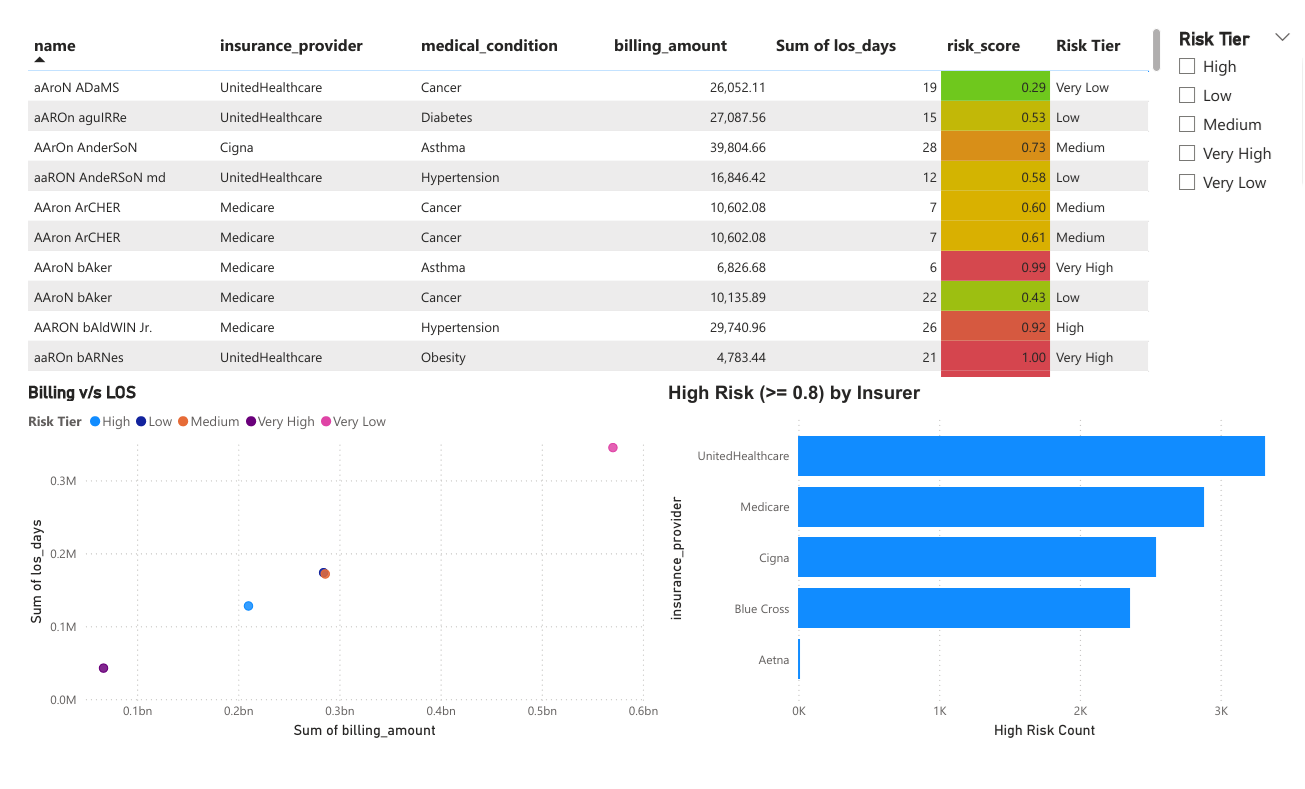

The dashboard page shown, as its layout file describes it:
{"tool":"powerbi","page":{"name":"Risk & Anomalies","canvas":[1280,720],"ordinal":1},"visuals":[{"type":"tableEx","fields":{"Values":["predictions.name","predictions.insurance_provider","predictions.medical_condition","predictions.billing_amount","Sum(predictions.los_days)","predictions.risk_score","predictions.Risk Tier"]},"box":[0,0,1142.7,359.1],"z":0},{"type":"clusteredBarChart","title":"High Risk (>= 0.8) by Insurer","fields":{"Category":["predictions.insurance_provider"],"Y":["predictions.High Risk Count"]},"box":[640,359.1,640,361.2],"z":1000},{"type":"scatterChart","title":"Billing v/s LOS","fields":{"X":["Sum(predictions.billing_amount)"],"Y":["Sum(predictions.los_days)"],"Series":["predictions.Risk Tier"]},"box":[0,359.1,640,361.2],"z":2000},{"type":"slicer","fields":{"Values":["predictions.Risk Tier"]},"box":[1142.7,0,137.3,359.1],"z":3000}]}

Visuals, with their boxes on the page's 1280x720 design canvas (x1, y1, x2, y2). These are canvas units, not pixel positions in the 1305x789 screenshot, which may show the page scaled, cropped or inside an application window:
tableEx - predictions.name x predictions.insurance_provider: 0,0,1143,359
"High Risk (>= 0.8) by Insurer" clusteredBarChart: 640,359,1280,720
"Billing v/s LOS" scatterChart: 0,359,640,720
slicer - predictions.Risk Tier: 1143,0,1280,359
